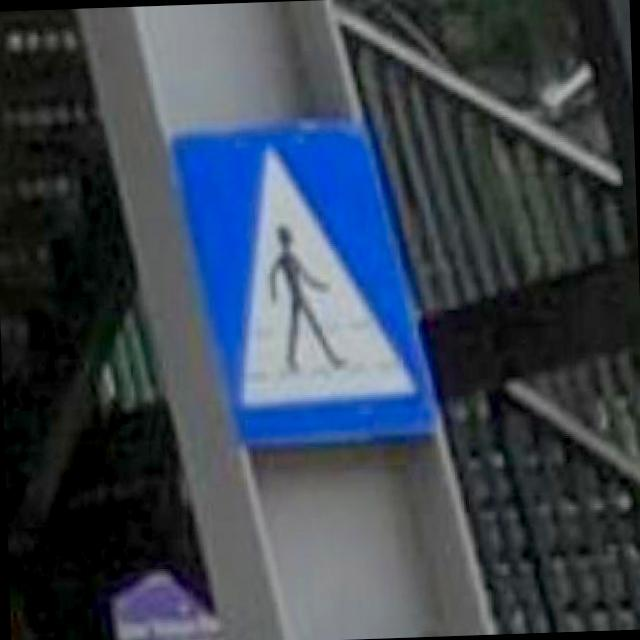Przejscie dla pieszych: (166, 121, 438, 447)
